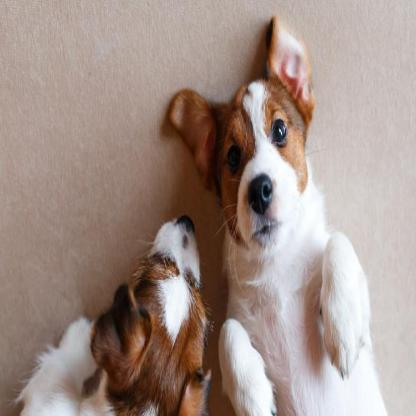cachorro: (165, 6, 398, 411)
